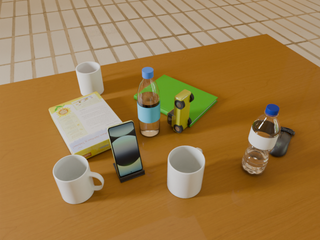book: (134, 75, 218, 127)
bottle: (241, 104, 281, 175), (137, 67, 161, 137)
box: (49, 91, 122, 159)
cup: (53, 155, 104, 204), (167, 146, 205, 198), (76, 62, 104, 96)
mouse: (270, 127, 295, 156)
phone: (107, 121, 143, 177)
toy_car: (167, 89, 194, 133)
